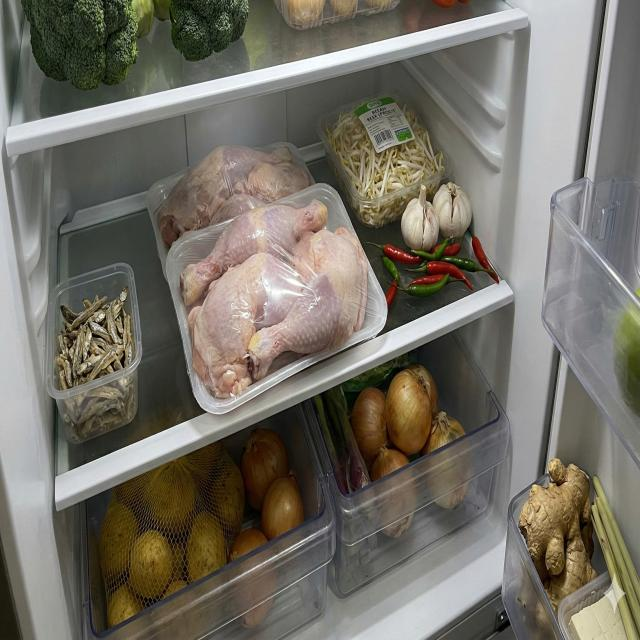anchovies: (58, 286, 137, 444)
bean_sprouts: (326, 103, 445, 228)
brocolli: (22, 0, 154, 90), (155, 0, 250, 62)
chicken: (180, 200, 368, 400), (157, 143, 310, 249)
chili: (364, 226, 500, 310)
garlic: (400, 181, 472, 252)
ginger: (518, 458, 599, 638)
onion: (351, 363, 473, 539), (228, 427, 304, 629)
potato: (98, 440, 245, 630)
tofu: (567, 588, 628, 640)
